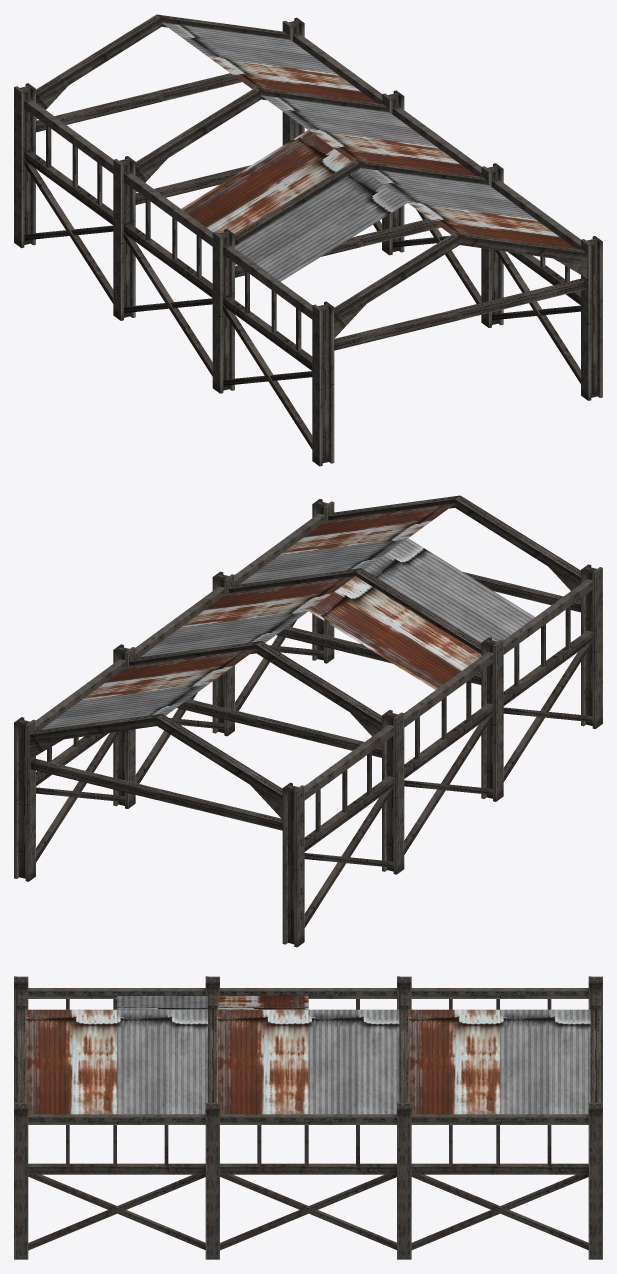
Rendered from ind-loadbay.zfix-v1.lod0.glb.
3 views of the same model, one above another, from view 1: azimuth 30°, elevation 25°; view 2: azimuth 150°, elevation 25°; view 3: azimuth 270°, elevation 25° (orthographic). The views are drawn at different scales.
Parts seen in each view (by area): view 1: Industrial_Railroad_Loadbay_Shed_1_Industrial_Bridgemetal_1_, Industrial_Railroad_Loadbay_Shed_1_Industrial_Walls_FLR_1_0; view 2: Industrial_Railroad_Loadbay_Shed_1_Industrial_Bridgemetal_1_, Industrial_Railroad_Loadbay_Shed_1_Industrial_Walls_FLR_1_0; view 3: Industrial_Railroad_Loadbay_Shed_1_Industrial_Walls_FLR_1_0, Industrial_Railroad_Loadbay_Shed_1_Industrial_Bridgemetal_1_.
Part boxes in pixels (left/top/right/bottom): Industrial_Railroad_Loadbay_Shed_1_Industrial_Bridgemetal_1_: left=14, top=14, right=602, bottom=466; Industrial_Railroad_Loadbay_Shed_1_Industrial_Walls_FLR_1_0: left=162, top=22, right=575, bottom=281; Industrial_Railroad_Loadbay_Shed_1_Industrial_Bridgemetal_1_: left=14, top=495, right=602, bottom=947; Industrial_Railroad_Loadbay_Shed_1_Industrial_Walls_FLR_1_0: left=41, top=503, right=534, bottom=729; Industrial_Railroad_Loadbay_Shed_1_Industrial_Walls_FLR_1_0: left=26, top=996, right=590, bottom=1114; Industrial_Railroad_Loadbay_Shed_1_Industrial_Bridgemetal_1_: left=14, top=976, right=602, bottom=1259.
Size of the model in its own units: 14.85 by 9.75 by 27.77.
2 materials, 2 textured.
